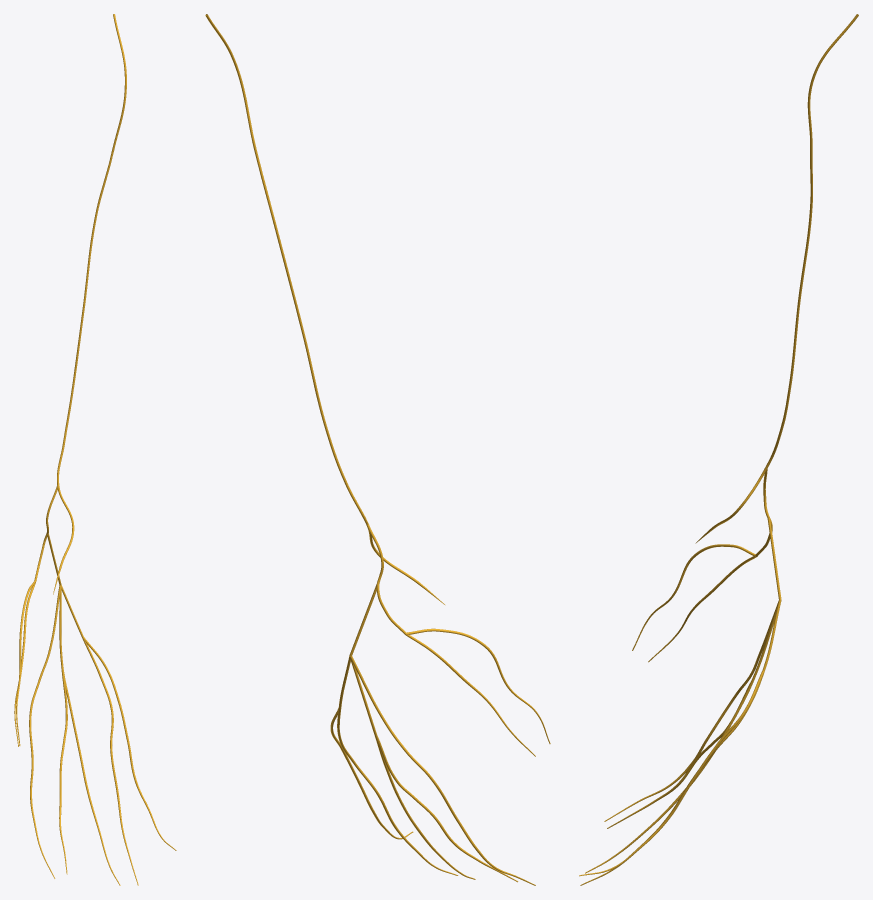
The model's file is nervoso-superficial-branch-of-radial-nerve-r.glb.
3 renders of one model, left to right at view 1: azimuth 30°, elevation 25°; view 2: azimuth 150°, elevation 25°; view 3: azimuth 270°, elevation 25°, orthographic. The views are drawn at different scales.
Visible parts, largest first — view 1: Dorsal digital branches of radial nerve.r, Superficial branch of radial nerve.r; view 2: Dorsal digital branches of radial nerve.r, Superficial branch of radial nerve.r; view 3: Dorsal digital branches of radial nerve.r, Superficial branch of radial nerve.r.
Part boxes in pixels (x1,y1,x2,y2): Dorsal digital branches of radial nerve.r: (14,581,176,885); Superficial branch of radial nerve.r: (34,14,126,594); Dorsal digital branches of radial nerve.r: (330,628,550,885); Superficial branch of radial nerve.r: (205,14,444,656); Dorsal digital branches of radial nerve.r: (579,544,781,885); Superficial branch of radial nerve.r: (695,14,858,600).
Size of the model in its own units: 0.1005 by 0.3901 by 0.107.
